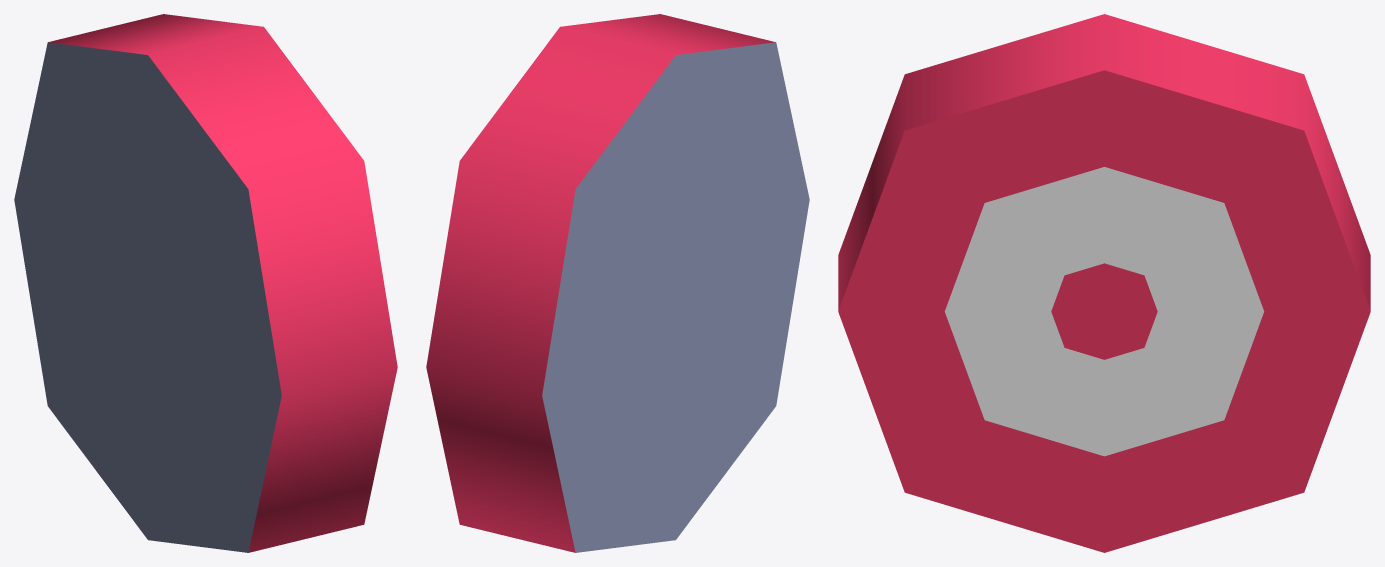
File: targetSmall.glb
3 views of the same model, side by side, from view 1: azimuth 30°, elevation 25°; view 2: azimuth 150°, elevation 25°; view 3: azimuth 270°, elevation 25° (orthographic).
Visible parts, largest first — view 1: targetSmall; view 2: targetSmall; view 3: targetSmall.
Part boxes in pixels (x1=…): targetSmall: x1=14, y1=14, x2=397, y2=552; targetSmall: x1=426, y1=14, x2=809, y2=552; targetSmall: x1=838, y1=14, x2=1370, y2=552.
Bounding box in the file's own units: 0.05 × 0.2 × 0.2.
